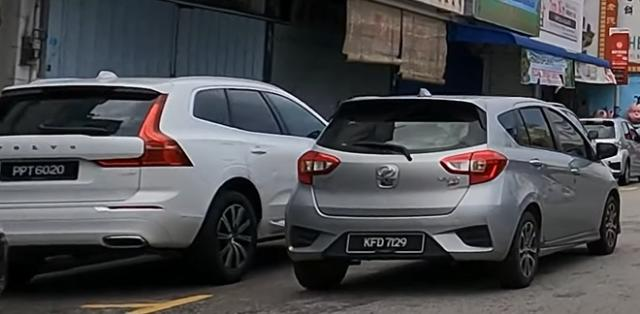License_Plate: (5, 162, 74, 180), (351, 236, 423, 252)
car: (1, 71, 331, 292), (284, 89, 622, 291)
